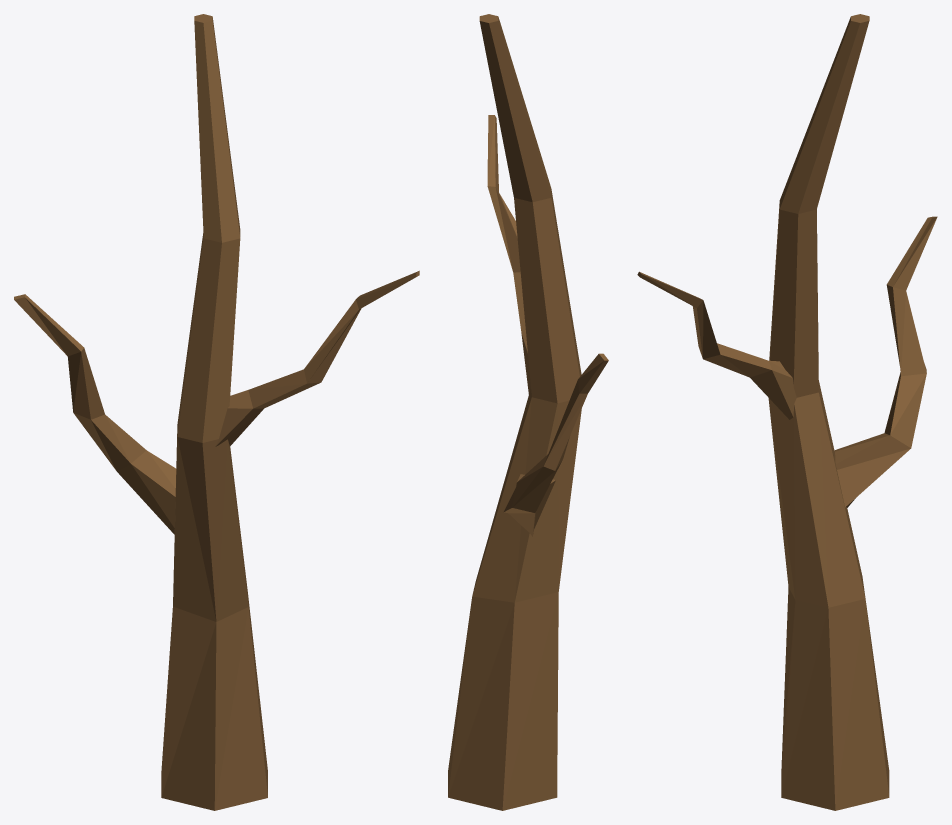
The model's file is Tree_1_1.FBX.
3 views of the same model, side by side, from view 1: azimuth 30°, elevation 25°; view 2: azimuth 150°, elevation 25°; view 3: azimuth 270°, elevation 25° (orthographic). The views are drawn at different scales.
Visible parts, largest first — view 1: Tree_1_1; view 2: Tree_1_1; view 3: Tree_1_1.
Part boxes in pixels (x1,y1,x2,y2): Tree_1_1: (14, 14, 419, 810); Tree_1_1: (448, 14, 608, 810); Tree_1_1: (637, 14, 937, 810).
Size of the model in its own units: 51.81 by 143 by 50.86.
1 material, 1 textured.
